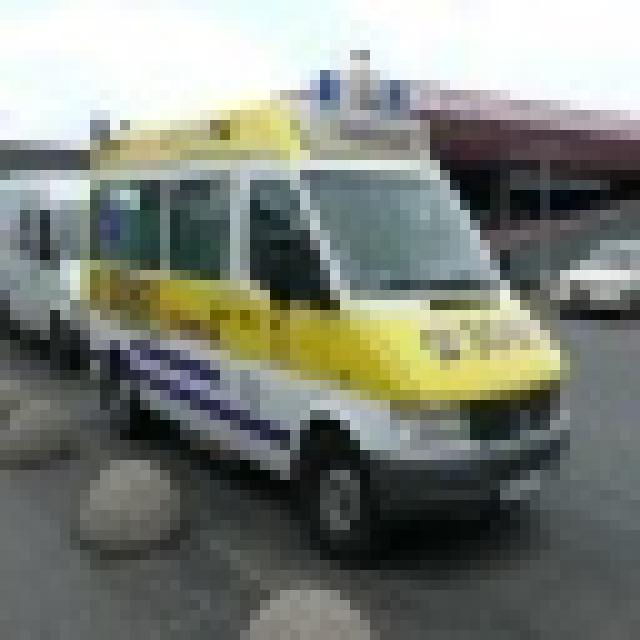Ambulance: (60, 40, 570, 550)
